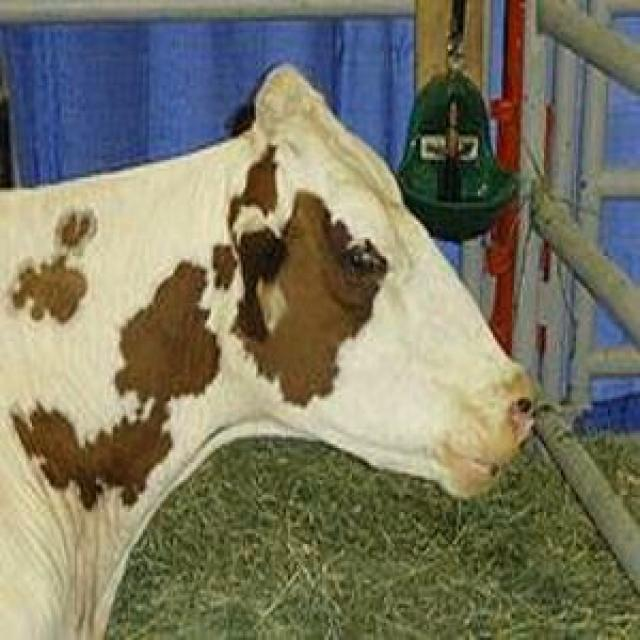cow: (0, 68, 532, 639)
